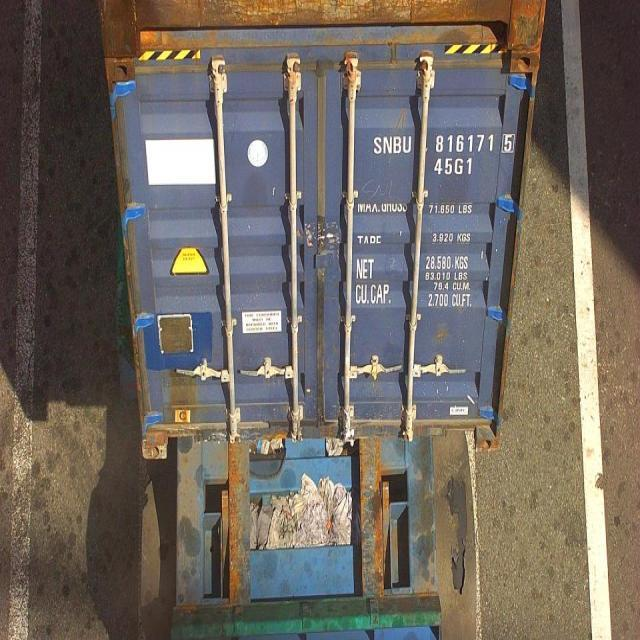ISO: (433, 157, 473, 175)
container_number: (374, 133, 513, 154)
